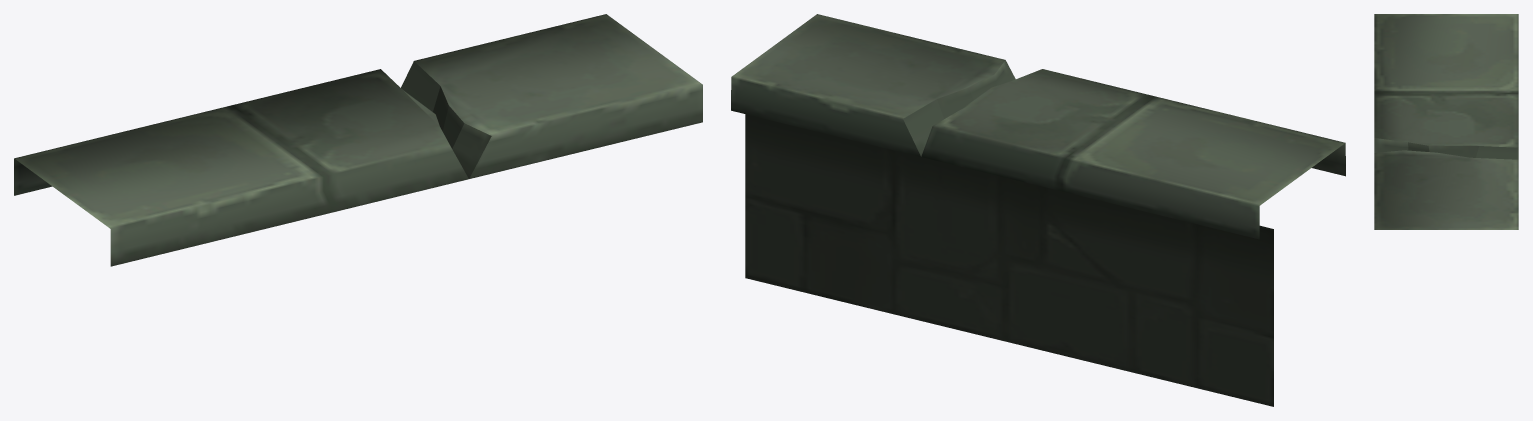
File: yw_newshanlin_shoulder_002.FBX
3 views of the same model, side by side, from view 1: azimuth 30°, elevation 25°; view 2: azimuth 150°, elevation 25°; view 3: azimuth 270°, elevation 25° (orthographic). The views are drawn at different scales.
Visible parts, largest first — view 1: yw_newshanlin_shoulder_002; view 2: yw_newshanlin_shoulder_002; view 3: yw_newshanlin_shoulder_002.
Part boxes in pixels (x1,y1,x2,y2): yw_newshanlin_shoulder_002: (14,14,702,266); yw_newshanlin_shoulder_002: (731,14,1345,406); yw_newshanlin_shoulder_002: (1374,14,1518,229).
Size of the model in its own units: 208 by 58.84 by 79.61.
